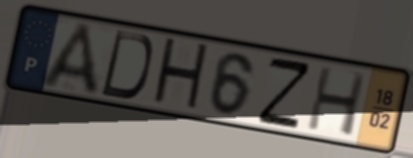6: (209, 50, 259, 117)
A: (36, 20, 103, 100)
D: (97, 28, 156, 102)
H: (149, 35, 212, 117), (304, 64, 369, 139)
Z: (255, 55, 314, 131)
